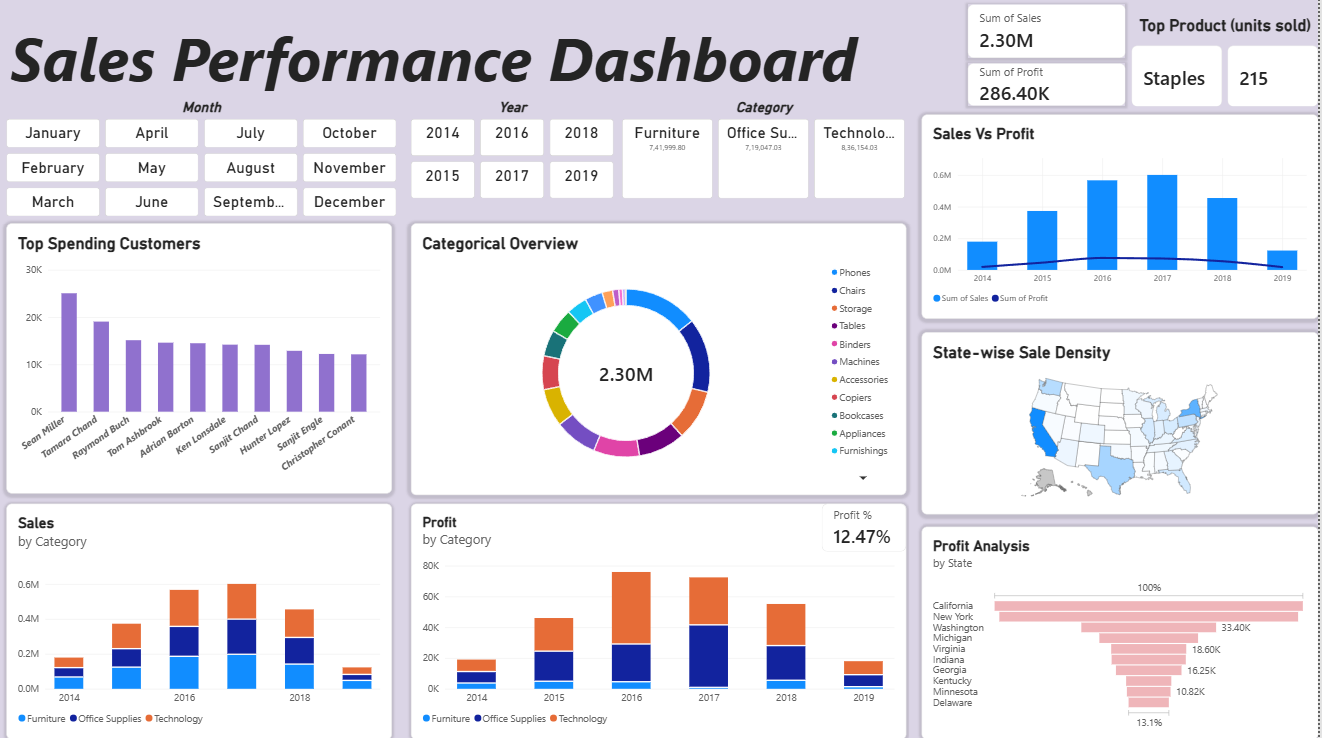

The dashboard page shown, as its layout file describes it:
{"tool":"powerbi","page":{"name":"Page 1","canvas":[1920,1080],"ordinal":0},"visuals":[{"type":"lineStackedColumnComboChart","title":" Sales Vs Profit","fields":{"Category":["Sample - Superstore (2).order-date.Variation.Date Hierarchy.Year"],"Y":["Sum(Sample - Superstore (2).Sales)"],"Y2":["Sum(Sample - Superstore (2).Profit)"]},"box":[1342,170,578,298],"z":0},{"type":"advancedSlicerVisual","title":"Category","fields":{"Label":["Sum(Sample - Superstore (2).Sales)"],"Values":["Sample - Superstore (2).Category"]},"box":[906.3,147.3,414,145.5],"z":1000},{"type":"donutChart","title":"Categorical Overview","fields":{"Category":["Sample - Superstore (2).Sub-Category"],"Y":["Sum(Sample - Superstore (2).Sales)"]},"box":[598,328,722,396],"z":2000},{"type":"shapeMap","title":"State-wise Sale Density","fields":{"Category":["Sample - Superstore (2).State"],"Value":["Sum(Sample - Superstore (2).Sales)"]},"box":[1342,486,578,266],"z":3000},{"type":"cardVisual","fields":{"Data":["Sum(Sample - Superstore (2).Sales)"]},"box":[1410,10,230,78],"z":4000},{"type":"cardVisual","fields":{"Data":["Sum(Sample - Superstore (2).Profit)"]},"box":[1410,96,230,62],"z":5000},{"type":"advancedSlicerVisual","fields":{"Values":["Sample - Superstore (2).order-date.Variation.Date Hierarchy.Year"]},"box":[598.6,147.3,296.5,145.5],"z":6000},{"type":"clusteredColumnChart","title":"Top Spending Customers","fields":{"Category":["Sample - Superstore (2).Customer Name"],"Y":["Sum(Sample - Superstore (2).Sales)"]},"box":[10,328,562,394],"z":7000},{"type":"funnel","title":"Profit Analysis","fields":{"Category":["Sample - Superstore (2).State"],"Y":["Sum(Sample - Superstore (2).Profit)"]},"box":[1342,770,578,310],"z":8000},{"type":"textbox","box":[10,26,1244,122],"z":9000},{"type":"cardVisual","title":"Top Product (units sold)","fields":{"Data":["Min(Sample - Superstore (2).Product Name)","Sum(Sample - Superstore (2).Quantity)"]},"box":[1648.5,26.1,272.3,132.4],"z":10000},{"type":"columnChart","title":"Profit","fields":{"Category":["Sample - Superstore (2).order-date.Variation.Date Hierarchy.Year"],"Series":["Sample - Superstore (2).Category"],"Y":["Sum(Sample - Superstore (2).Profit)"]},"box":[598,736,722,344],"z":11000},{"type":"columnChart","title":"Sales  ","fields":{"Category":["Sample - Superstore (2).order-date.Variation.Date Hierarchy.Year"],"Series":["Sample - Superstore (2).Category"],"Y":["Sum(Sample - Superstore (2).Sales)"]},"box":[10,736,562,344],"z":12000},{"type":"advancedSlicerVisual","fields":{"Values":["Sample - Superstore (2).order-date.Variation.Date Hierarchy.Month"]},"box":[9.3,147.3,568.8,173.4],"z":13000},{"type":"cardVisual","fields":{"Data":["Sample - Superstore (2).Profit %"]},"box":[1197.2,736.6,123.1,70.9],"z":13001}]}

Visuals, with their boxes in screenshot pixels (x1, y1, x2, y2), scaled from the page's 1920x1080 canvas onto the 1322x738 screenshot:
" Sales Vs Profit" lineStackedColumnComboChart: pyautogui.locateOnScreen(924, 116, 1321, 320)
"Category" advancedSlicerVisual: pyautogui.locateOnScreen(624, 101, 909, 200)
"Categorical Overview" donutChart: pyautogui.locateOnScreen(412, 224, 909, 495)
"State-wise Sale Density" shapeMap: pyautogui.locateOnScreen(924, 332, 1321, 514)
cardVisual - Sum(Sample - Superstore (2).Sales): pyautogui.locateOnScreen(971, 7, 1129, 60)
cardVisual - Sum(Sample - Superstore (2).Profit): pyautogui.locateOnScreen(971, 66, 1129, 108)
advancedSlicerVisual - Sample - Superstore (2).order-date.Variation.Date Hierarchy.Year: pyautogui.locateOnScreen(412, 101, 616, 200)
"Top Spending Customers" clusteredColumnChart: pyautogui.locateOnScreen(7, 224, 394, 493)
"Profit Analysis" funnel: pyautogui.locateOnScreen(924, 526, 1321, 737)
textbox: pyautogui.locateOnScreen(7, 18, 863, 101)
"Top Product (units sold)" cardVisual: pyautogui.locateOnScreen(1135, 18, 1321, 108)
"Profit" columnChart: pyautogui.locateOnScreen(412, 503, 909, 737)
"Sales  " columnChart: pyautogui.locateOnScreen(7, 503, 394, 737)
advancedSlicerVisual - Sample - Superstore (2).order-date.Variation.Date Hierarchy.Month: pyautogui.locateOnScreen(6, 101, 398, 219)
cardVisual - Sample - Superstore (2).Profit %: pyautogui.locateOnScreen(824, 503, 909, 552)
